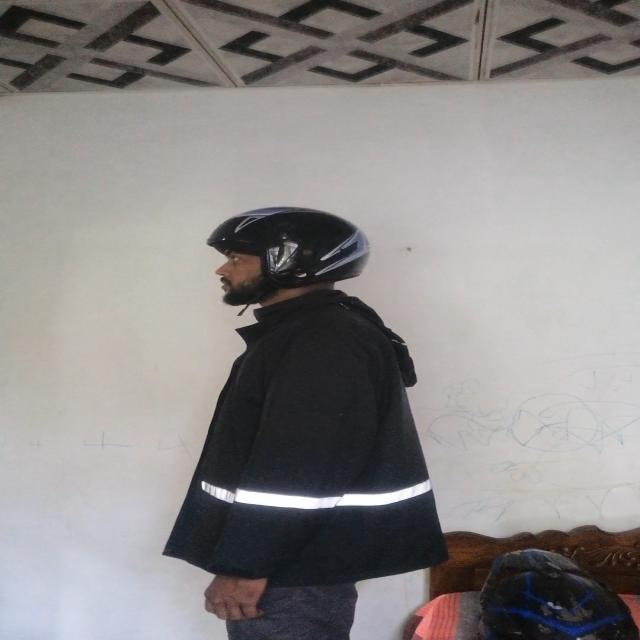Helmet_Wearer: (216, 203, 381, 319)
Jacket_Wearer: (190, 288, 459, 585)
Person: (166, 193, 455, 626)
